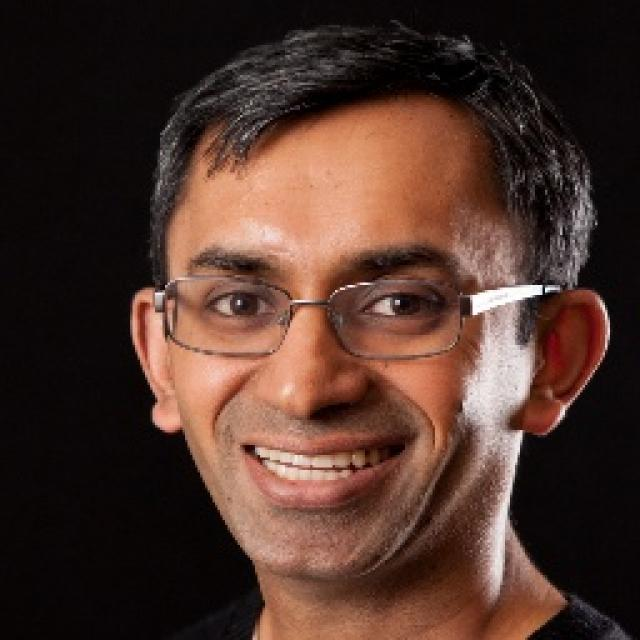earlobe: (520, 391, 560, 437), (151, 396, 186, 434)
eye: (359, 287, 444, 328), (207, 284, 276, 328)
nose: (255, 394, 362, 438)
wholeear: (520, 288, 610, 436), (130, 290, 184, 434)
